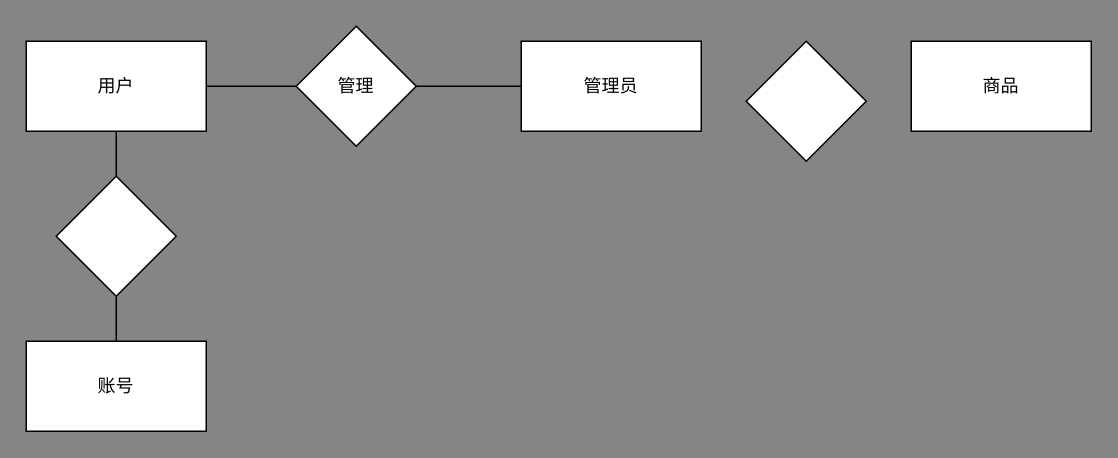
The diagram is 1118 pixels wide and 458 high, and some of its shapes have lost their labels. The centre of each missing label's shape, as x and y in pixels:
"创建" goes at (x=115, y=235).
"操作" goes at (x=805, y=100).
